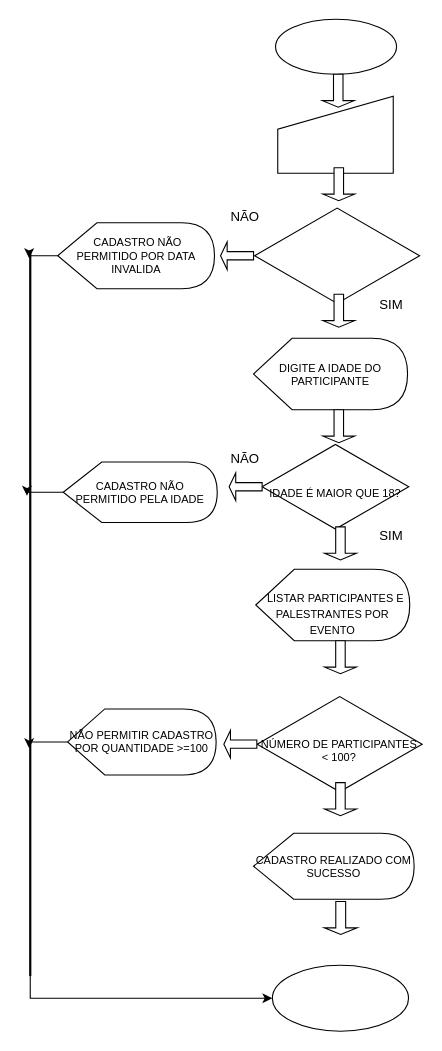
Image size: 442x1051. Some labels were removed from this diagram. Here are the shapes that lost their labels. From the top down, the box of each, then its label:
(274, 18, 397, 74): INÍCIO
(277, 95, 393, 173): INFORME A DATA DO EVENTO
(254, 205, 420, 305): DATA É POSTERIOR A DATA ATUAL?
(271, 964, 409, 1031): FIM
